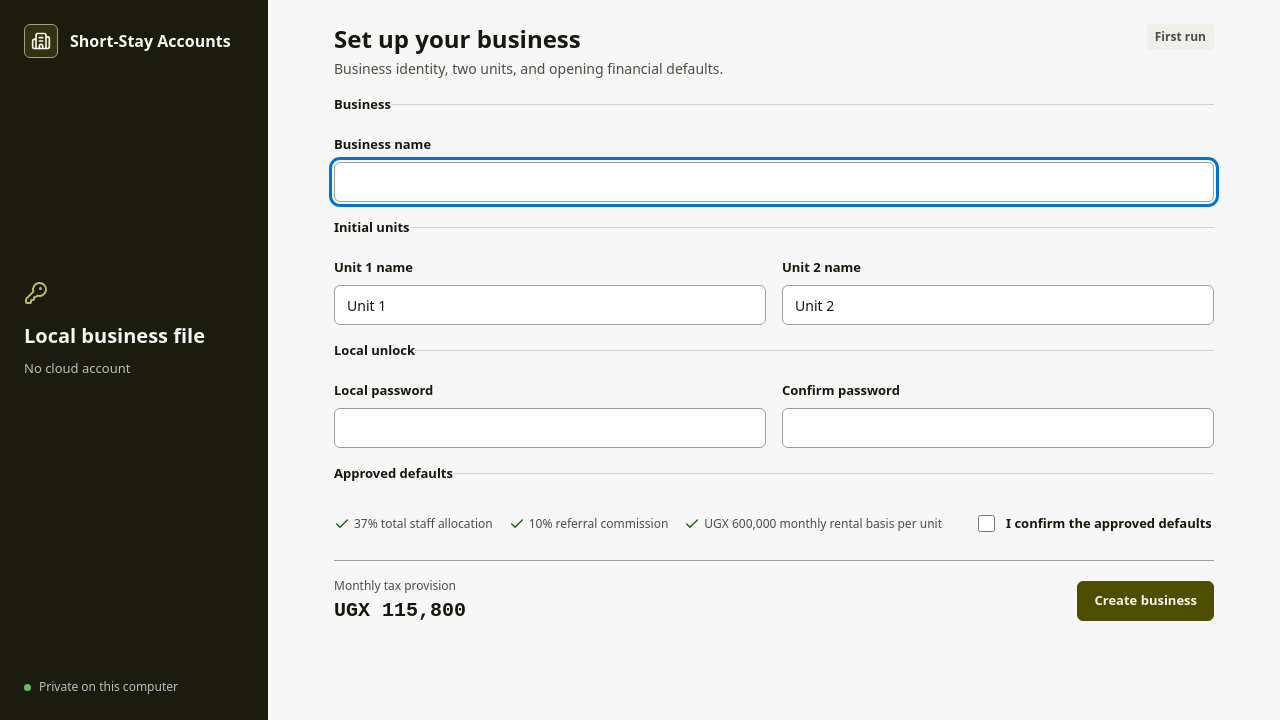
Test: business setup › preserves non-secret fields and reports password mismatch inline
The width and height of the screenshot is (1280, 720).
Type "Client Business" into the field labelled "Business name" at (774, 182), box [334, 162, 1214, 202]
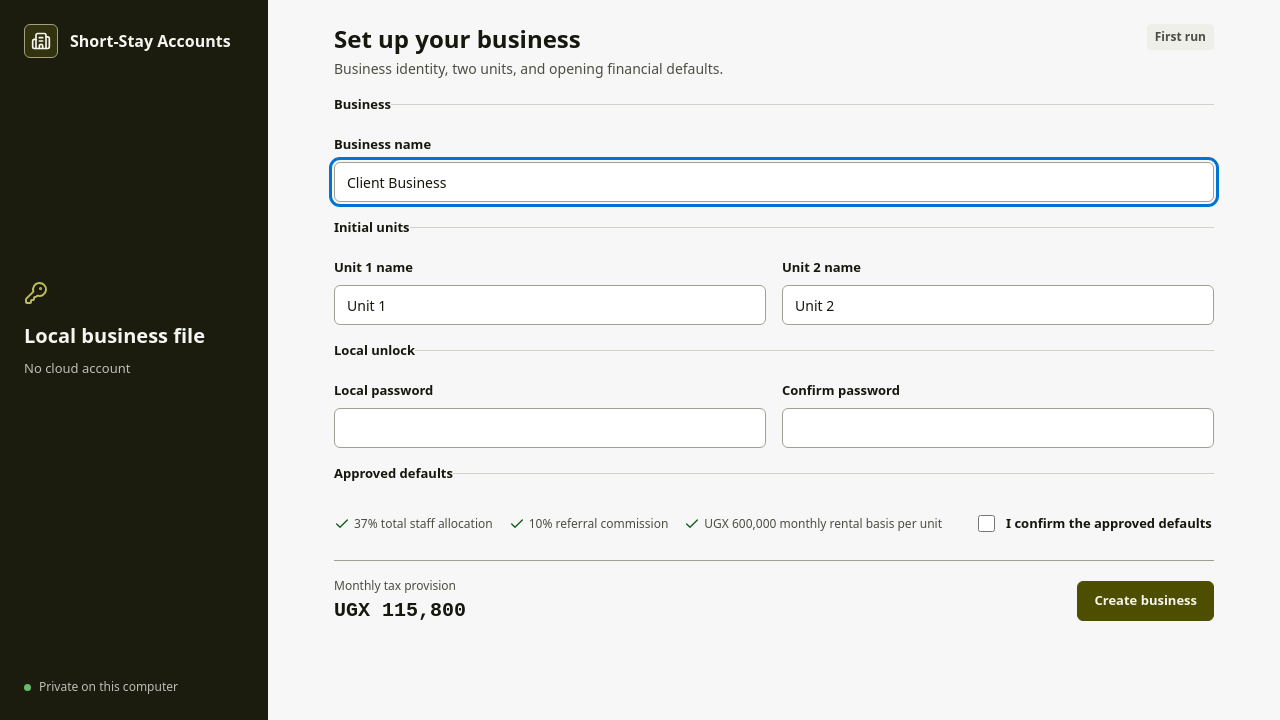
Type "long local password" into the password field labelled "Local password" at (550, 428), box [334, 408, 766, 448]
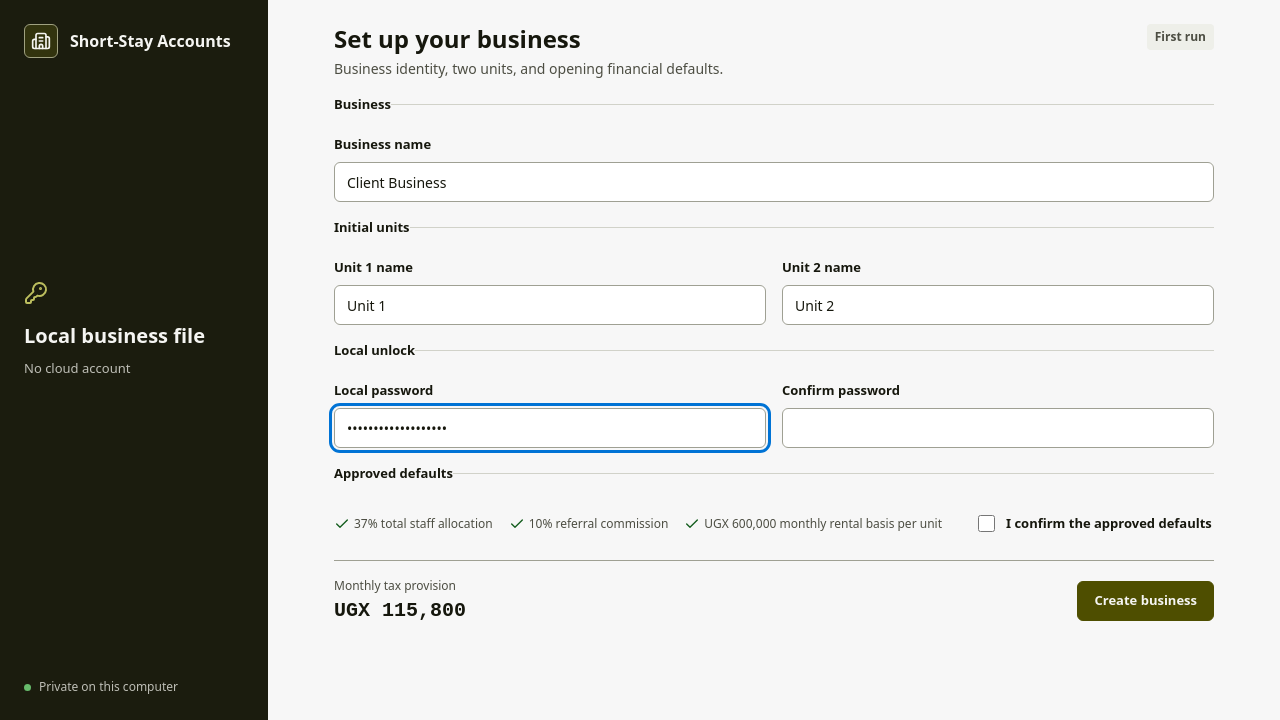
Type "different password" into the password field labelled "Confirm password" at (998, 428), box [782, 408, 1214, 448]
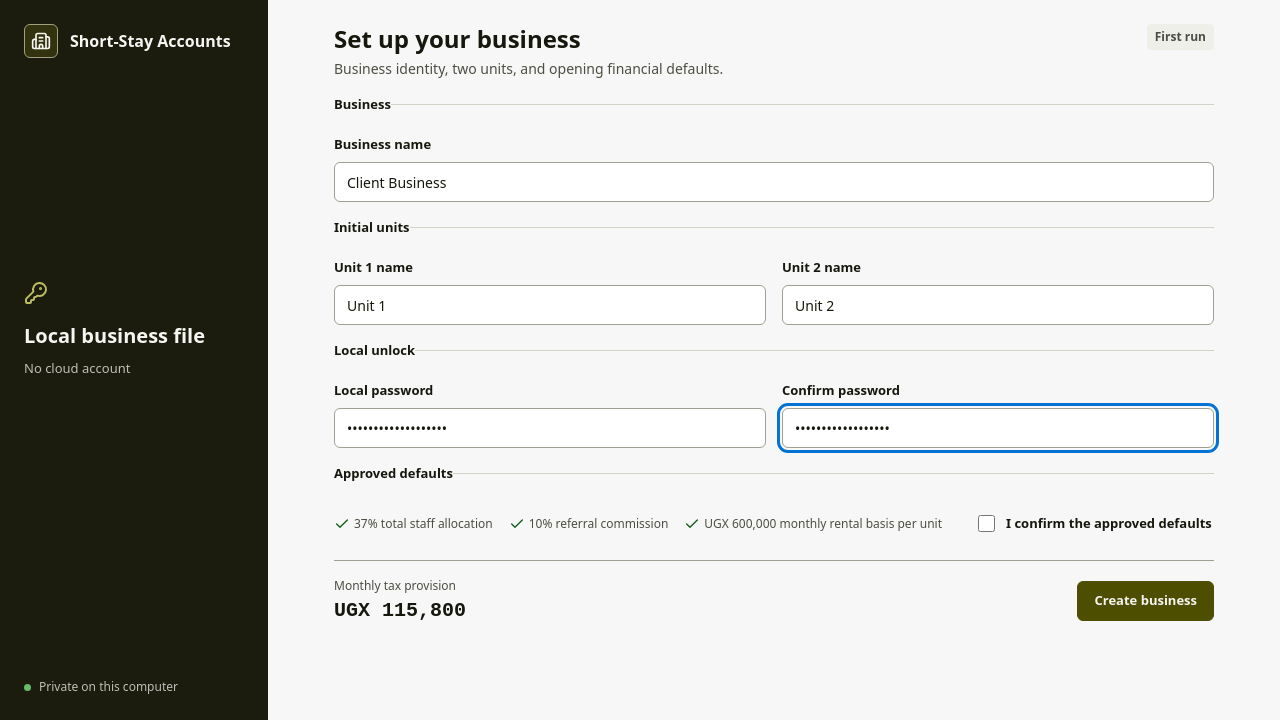
Click the checkbox labelled "I confirm the approved defaults" at (986, 524), box [978, 515, 995, 532]
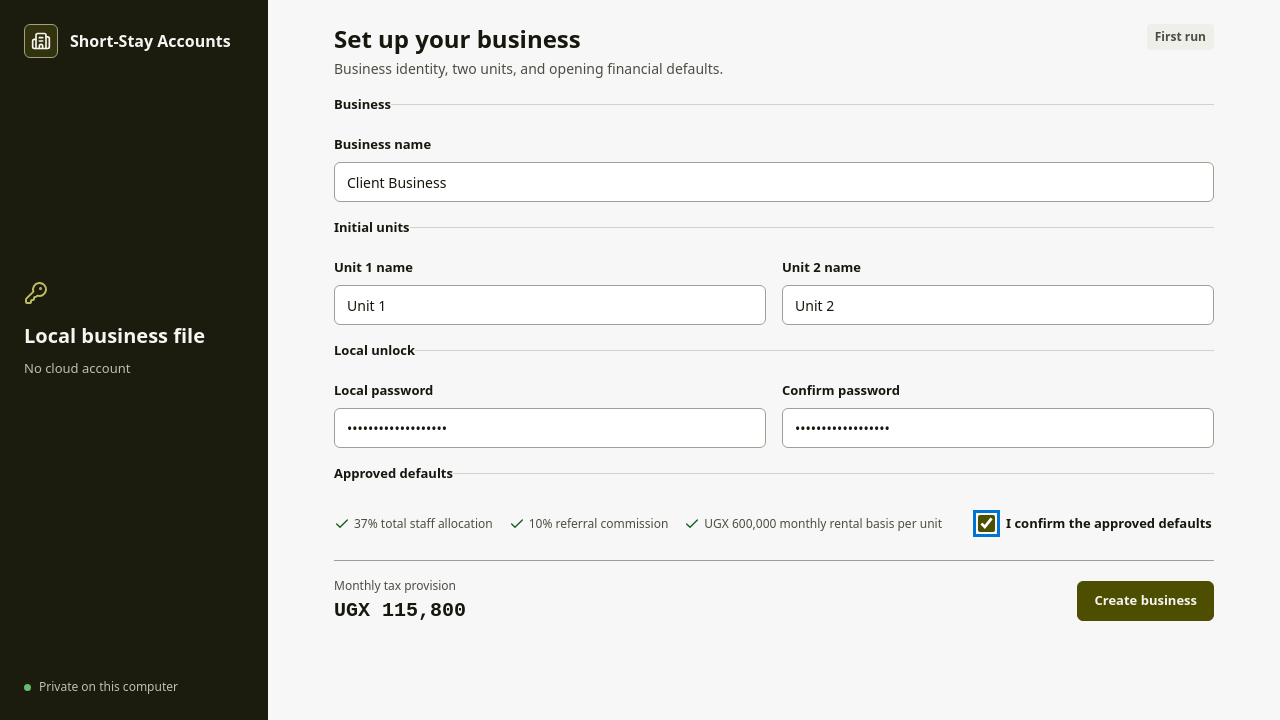
Click the button "Create business" at (1146, 601), box [1078, 581, 1214, 621]
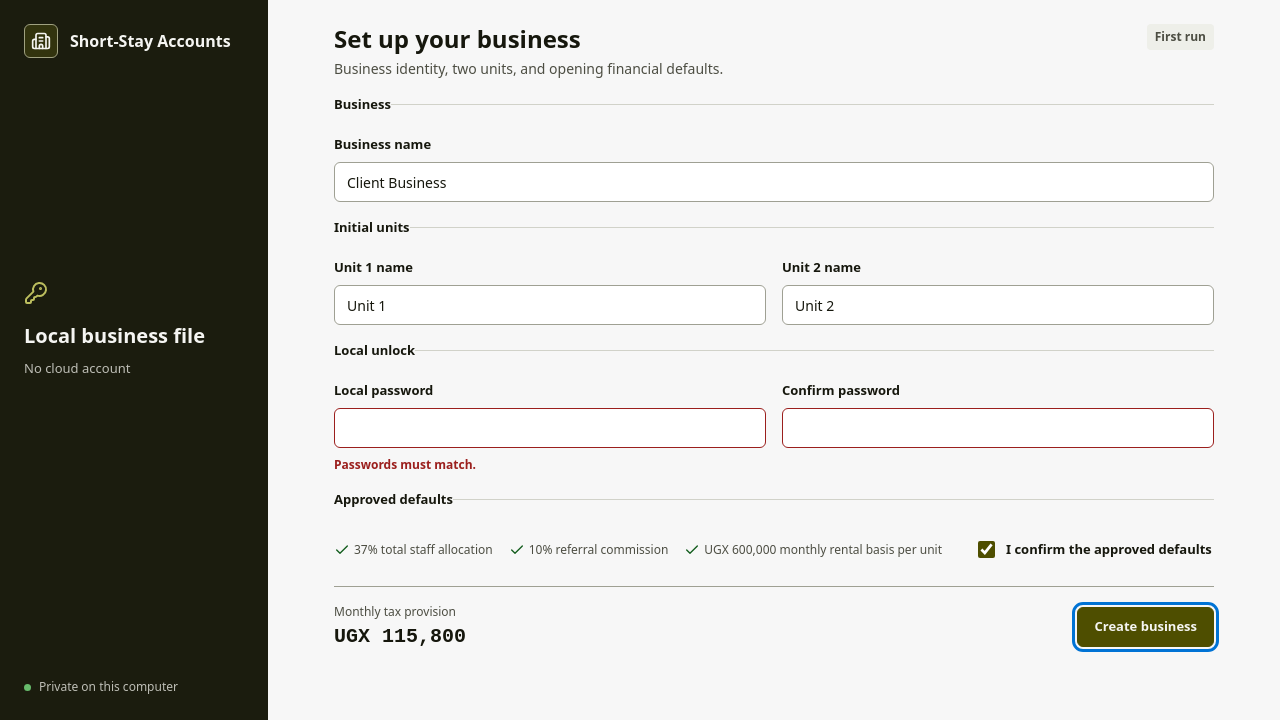
Expected: the text "Passwords must match." is shown, [334, 456, 476, 473]
